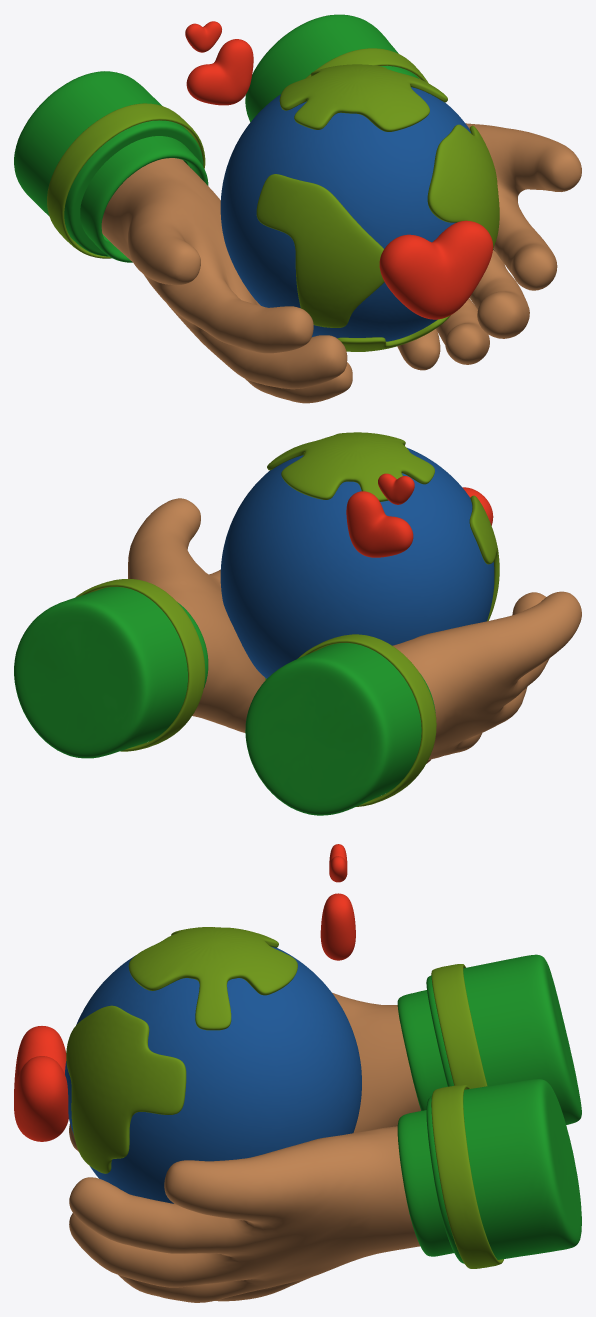
The model's file is SaveEarth5.gltf.
3 renders of one model, top to bottom at view 1: azimuth 30°, elevation 25°; view 2: azimuth 150°, elevation 25°; view 3: azimuth 270°, elevation 25°, orthographic. The views are drawn at different scales.
Parts seen in each view (by area): view 1: Vert.004, Sphere.022, Sphere.021, Vert.003, Cube.119, Vert.006, Cube.120, Cube.121; view 2: Vert.003, Sphere.022, Vert.004, Sphere.021, Vert.006, Cube.120, Cube.121; view 3: Vert.004, Vert.003, Sphere.022, Sphere.021, Vert.006, Cube.119, Cube.120, Cube.121.
Boxes of the visible parts, x1,y1,x2,y2 form: Vert.004: (101,123,581,403); Sphere.022: (220,87,471,341); Sphere.021: (256,64,499,351); Vert.003: (14,14,419,262); Cube.119: (379,220,493,319); Vert.006: (47,48,428,258); Cube.120: (186,39,253,105); Cube.121: (185,21,221,52); Vert.003: (14,587,435,815); Sphere.022: (220,448,494,678); Vert.004: (128,498,581,763); Sphere.021: (265,432,499,680); Vert.006: (75,579,436,806); Cube.120: (346,491,413,557); Cube.121: (378,473,414,504); Vert.004: (69,992,420,1302); Vert.003: (397,954,581,1263); Sphere.022: (65,946,361,1203); Sphere.021: (66,927,297,1173); Vert.006: (431,964,503,1268); Cube.119: (14,1026,68,1141); Cube.120: (320,893,355,960); Cube.121: (329,844,347,882).
Bounding box in the file's own units: 2.73 × 2.06 × 2.91.
